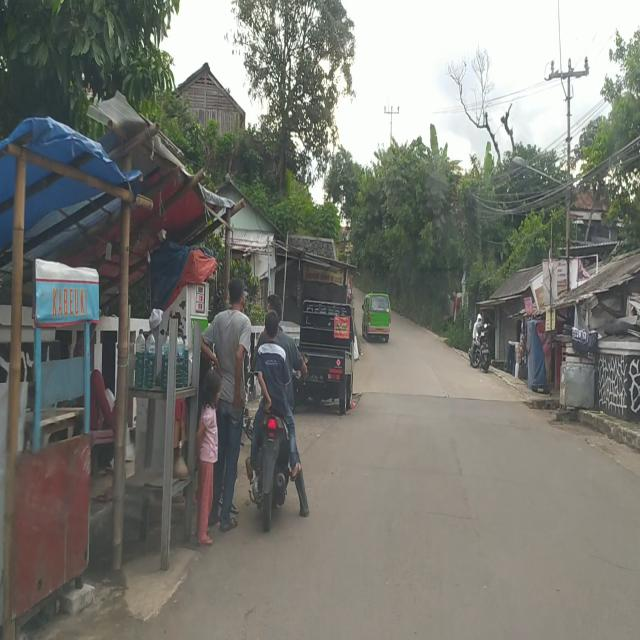Sewer Cover: (342, 459, 554, 491), (420, 508, 481, 524)
